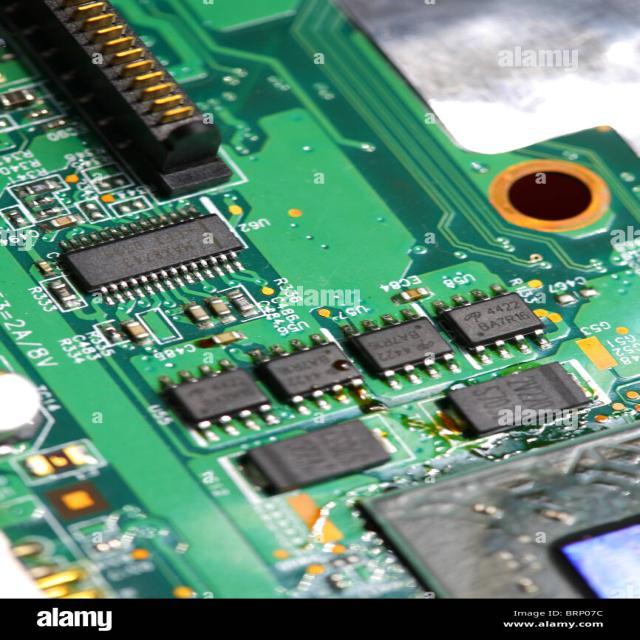pcb: (1, 0, 638, 600), (55, 210, 248, 296), (240, 418, 391, 495), (444, 360, 594, 437)
